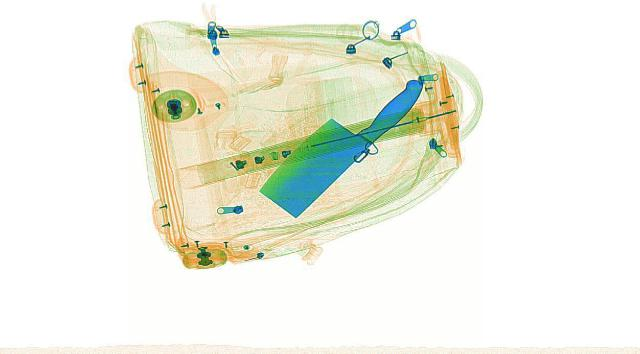Knife: (232, 68, 450, 216)
